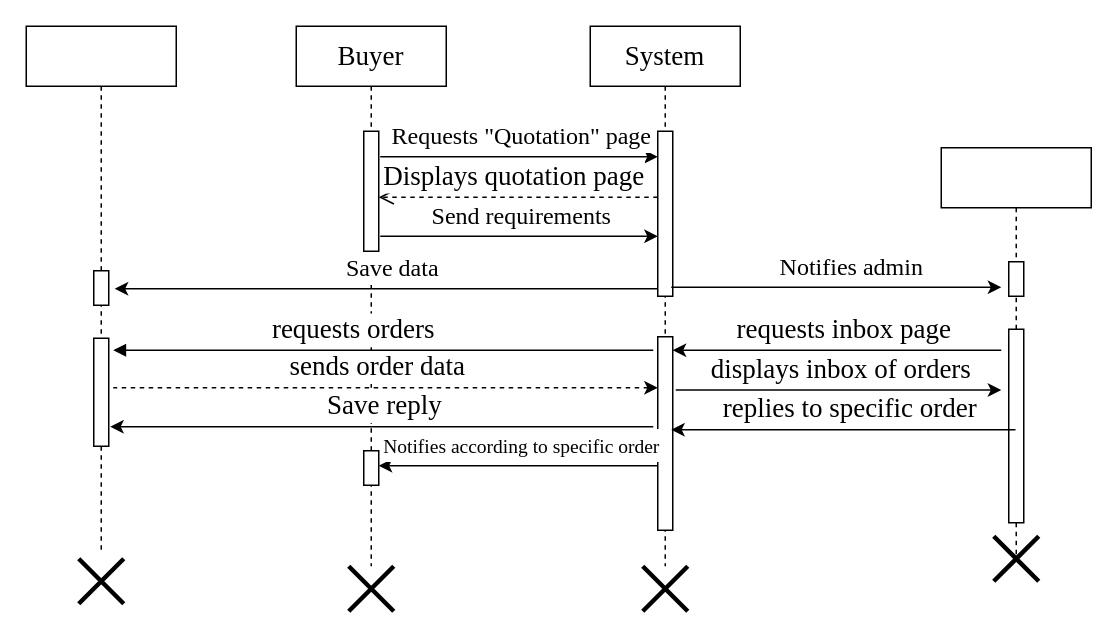
Image size: 1118x639. Some labels were removed from this diagram. The box of each missing label's shape, as (x1, y1, x2, y2) in pixels:
Admin: (940, 146, 1091, 559)
DB: (25, 25, 176, 554)
